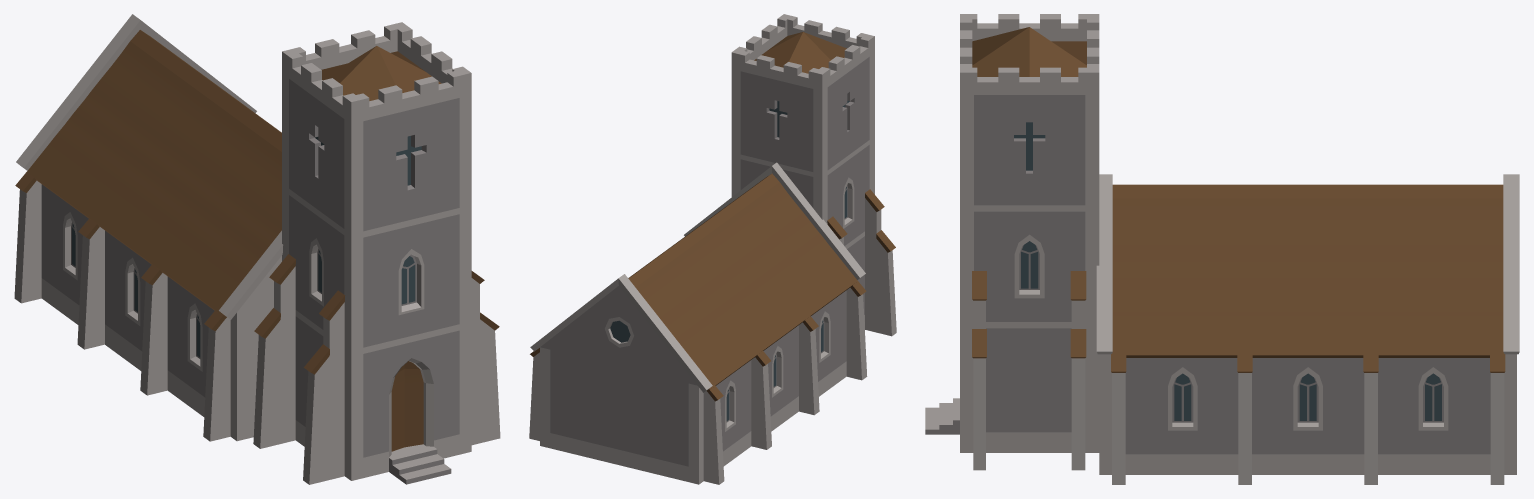
File: medieval_church-medieval.fbx
3 renders of one model, left to right at view 1: azimuth 30°, elevation 25°; view 2: azimuth 150°, elevation 25°; view 3: azimuth 270°, elevation 25°, orthographic. The views are drawn at different scales.
Visible parts, largest first — view 1: medieval_church_medieval; view 2: medieval_church_medieval; view 3: medieval_church_medieval.
Boxes of the visible parts, left/top/right/bottom form: medieval_church_medieval: left=14, top=14, right=500, bottom=484; medieval_church_medieval: left=529, top=14, right=896, bottom=484; medieval_church_medieval: left=925, top=14, right=1519, bottom=484.
Bounding box in the file's own units: 97.92 × 147 × 200.
